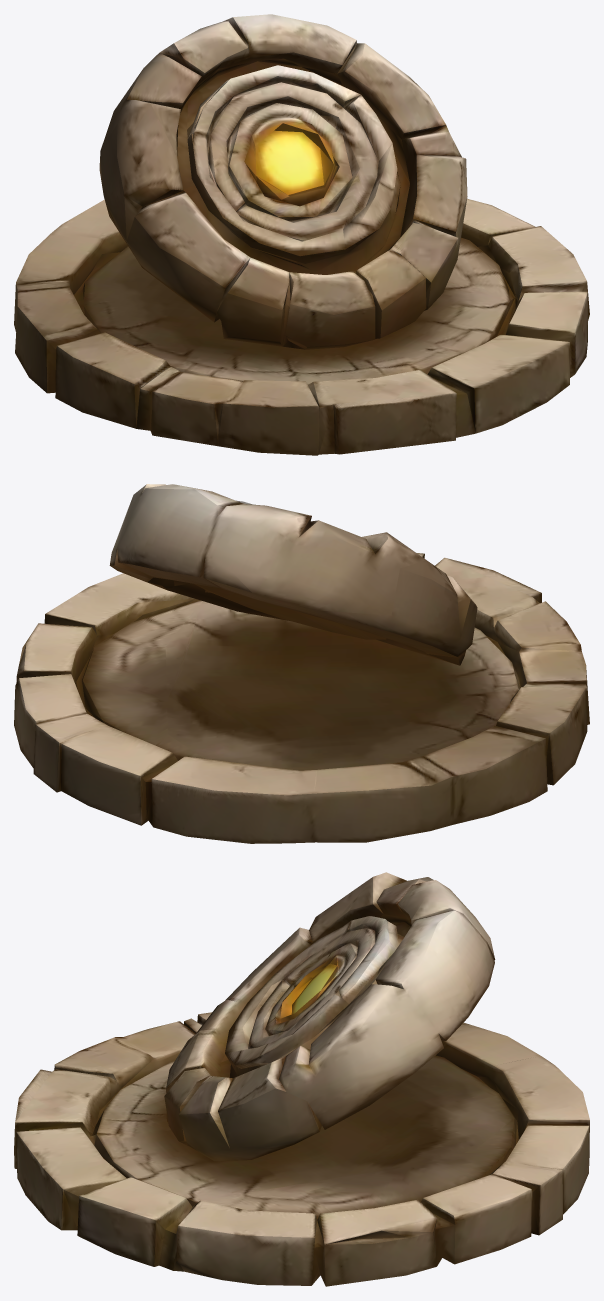
File: m2SafeMarker.glb
3 views of the same model, one above another, from view 1: azimuth 30°, elevation 25°; view 2: azimuth 150°, elevation 25°; view 3: azimuth 270°, elevation 25° (orthographic). The views are drawn at different scales.
Parts seen in each view (by area): view 1: model; view 2: model; view 3: model.
Boxes of the visible parts, bbox=[...] form: model: bbox=[14, 14, 589, 455]; model: bbox=[14, 484, 589, 843]; model: bbox=[14, 872, 589, 1286].
Size of the model in its own units: 1.85 by 0.9611 by 1.89.
Materials: 1 (1 with a texture image).
